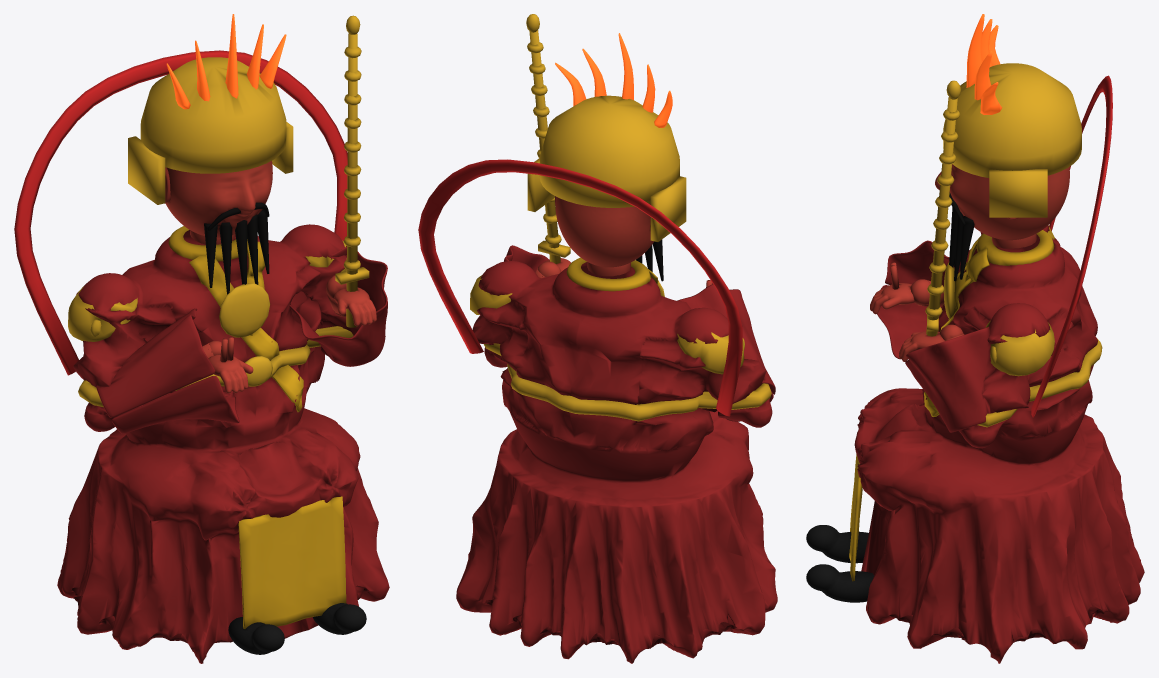
The model's file is wangtianjun.glb.
3 views of the same model, side by side, from view 1: azimuth 30°, elevation 25°; view 2: azimuth 150°, elevation 25°; view 3: azimuth 270°, elevation 25° (orthographic). The views are drawn at different scales.
Parts seen in each view (by area): view 1: WT_Robe, WT_Helmet, WT_Apron, WT_Ribbon, WT_SleeveL, WT_HeadMesh, WT_Armor, WT_Whip, WT_SleeveR, WT_Beard, WT_Lapel, WT_Boots (+5 smaller); view 2: WT_Robe, WT_Helmet, WT_Ribbon, WT_HeadMesh, WT_Belt, WT_Whip, WT_Flame, WT_Armor, WT_SleeveL, WT_Collar, WT_SleeveR; view 3: WT_Robe, WT_Helmet, WT_SleeveR, WT_HeadMesh, WT_Boots, WT_Whip, WT_SleeveL, WT_Armor, WT_Ribbon, WT_Flame, WT_Belt, WT_Collar (+6 smaller).
Boxes of the visible parts, x1,y1,x2,y2 form: WT_Robe: (57, 224, 389, 663); WT_Helmet: (128, 57, 293, 204); WT_Apron: (238, 496, 346, 628); WT_Ribbon: (14, 50, 347, 375); WT_SleeveL: (96, 308, 239, 433); WT_HeadMesh: (165, 161, 272, 237); WT_Armor: (68, 240, 346, 341); WT_Whip: (335, 15, 369, 327); WT_SleeveR: (289, 247, 387, 366); WT_Beard: (204, 202, 269, 294); WT_Lapel: (189, 240, 303, 412); WT_Boots: (228, 603, 366, 654); WT_Robe: (456, 261, 777, 663); WT_Helmet: (527, 95, 686, 241); WT_Ribbon: (418, 159, 742, 416); WT_HeadMesh: (555, 196, 654, 267); WT_Belt: (483, 343, 771, 421); WT_Whip: (526, 14, 570, 263); WT_Flame: (555, 33, 672, 127); WT_Armor: (470, 275, 744, 374); WT_SleeveL: (677, 284, 775, 421); WT_Collar: (566, 257, 650, 291); WT_SleeveR: (504, 245, 548, 271); WT_Robe: (854, 225, 1144, 663); WT_Helmet: (943, 63, 1081, 217); WT_SleeveR: (905, 326, 995, 432); WT_HeadMesh: (935, 164, 1069, 240); WT_Boots: (806, 525, 873, 602); WT_Whip: (925, 80, 960, 336); WT_SleeveL: (877, 240, 960, 359); WT_Armor: (943, 225, 1054, 376); WT_Ribbon: (1031, 75, 1112, 417); WT_Flame: (966, 14, 1002, 114); WT_Belt: (977, 338, 1102, 427); WT_Collar: (976, 230, 1054, 265).
Size of the model in its own units: 1.31 by 2.22 by 1.16.
